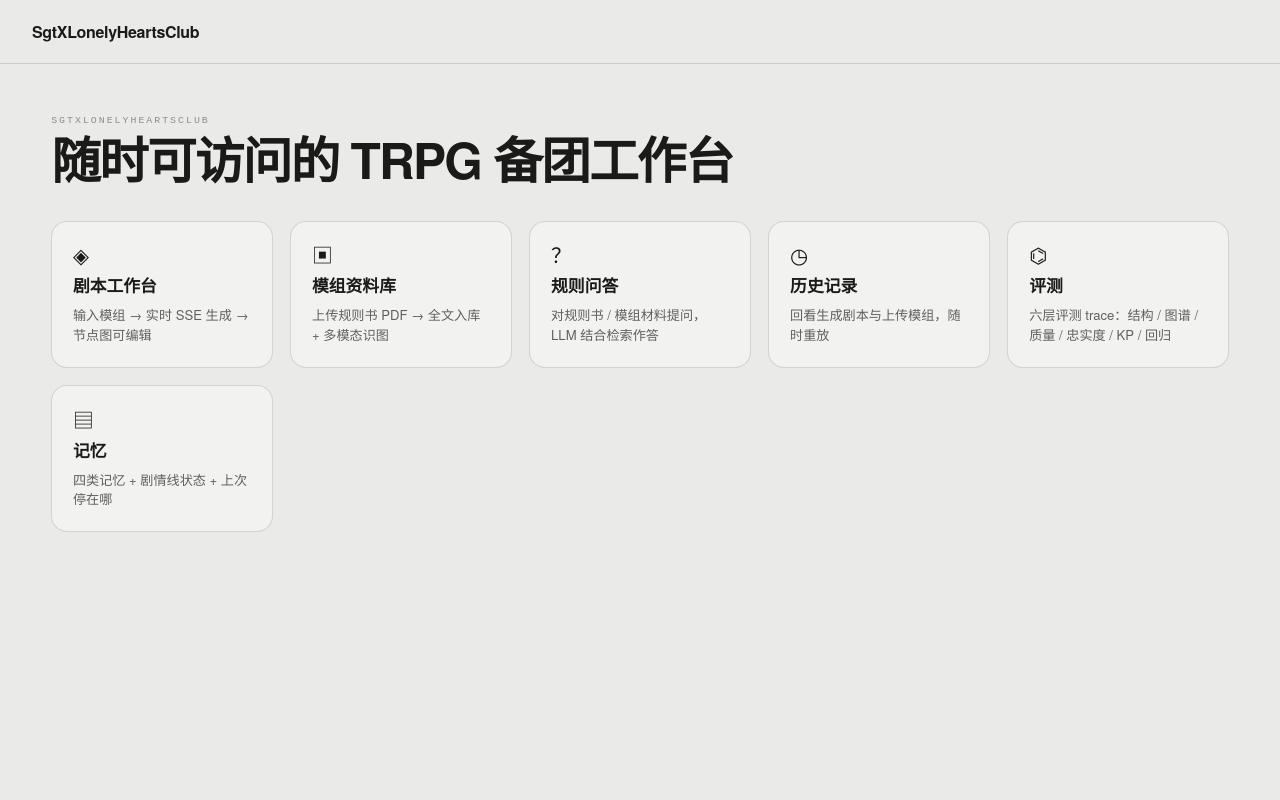
Test: 评测列表 › 首页「评测」栏目入口可跳转
expect the element with test id "sx-home" is shown: met, box [51, 115, 1229, 532]
Click the button "⌬ 评测 六层评测 trace：结构 / 图谱 / 质量 / 忠实度 / KP / 回归" at {"x": 1118, "y": 294}, box [1007, 221, 1229, 368]
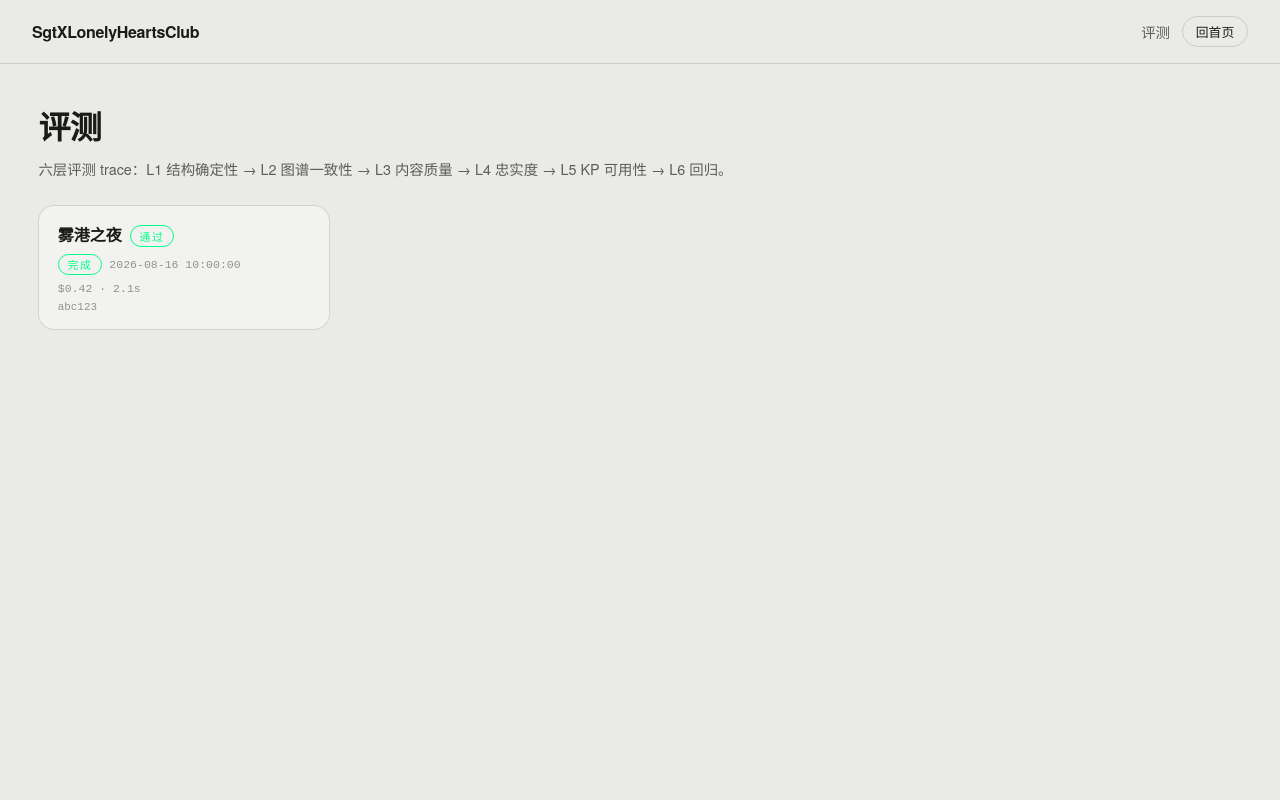
expect the element with test id "sx-eval" is shown: met, box [38, 103, 732, 330]
